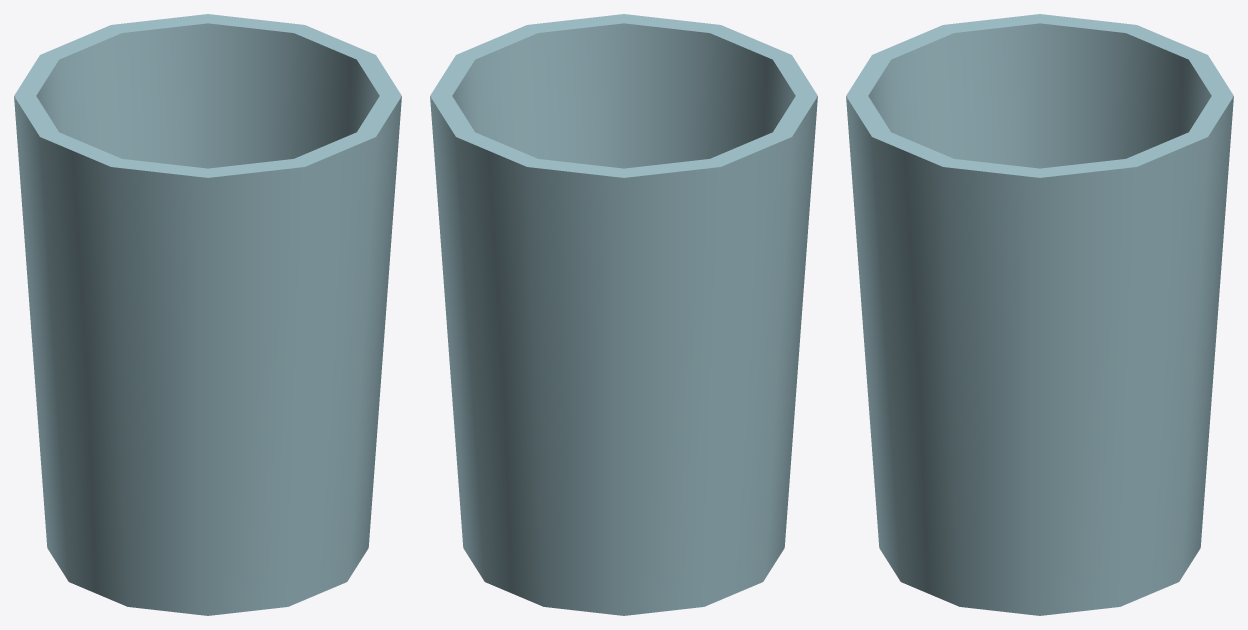
Rendered from cup_glass.glb.
The picture shows the model from 3 angles, left to right: view 1: azimuth 30°, elevation 25°; view 2: azimuth 150°, elevation 25°; view 3: azimuth 270°, elevation 25°; orthographic projection.
Parts seen in each view (by area): view 1: cup_glass; view 2: cup_glass; view 3: cup_glass.
Part boxes in pixels (left/top/right/bottom): cup_glass: left=14, top=14, right=401, bottom=615; cup_glass: left=430, top=14, right=817, bottom=615; cup_glass: left=846, top=14, right=1233, bottom=615.
Size of the model in its own units: 0.07 by 0.09 by 0.07.
